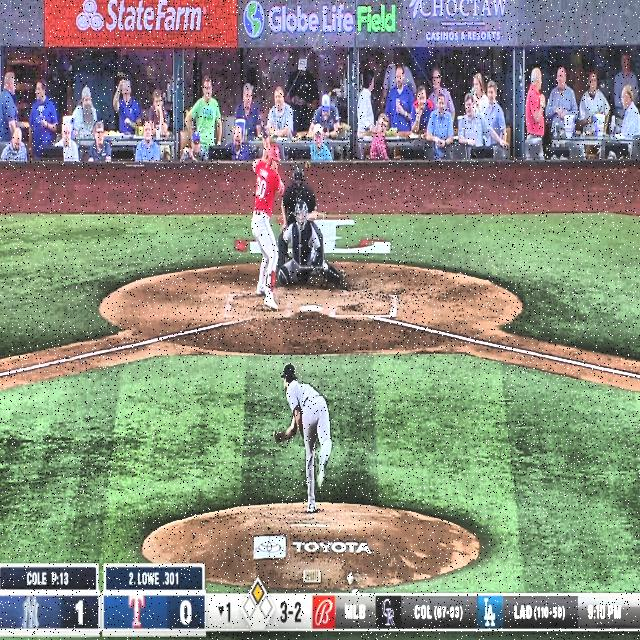baseball: (323, 262, 328, 272)
